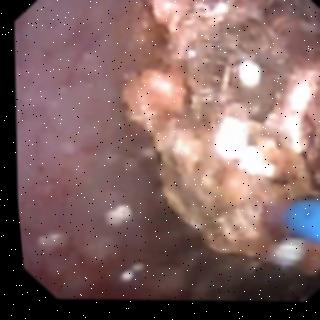fiber: (282, 206, 320, 249)
stone: (114, 0, 320, 276)
